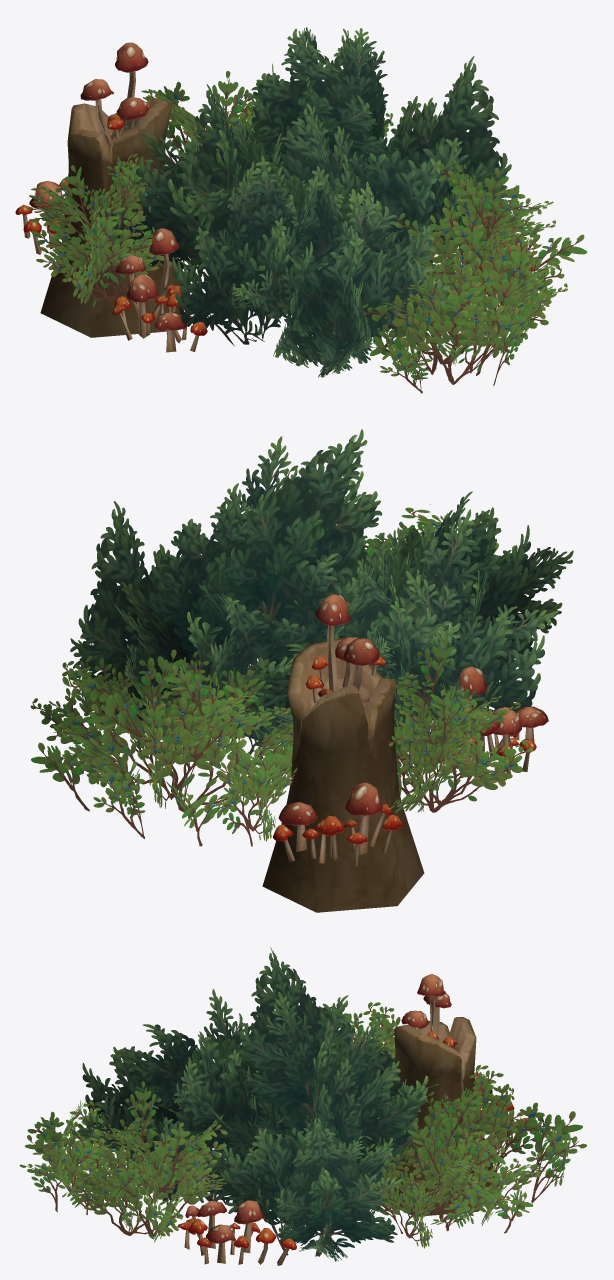
3 renders of one model, top to bottom at view 1: azimuth 30°, elevation 25°; view 2: azimuth 150°, elevation 25°; view 3: azimuth 270°, elevation 25°, orthographic. The views are drawn at different scales.
Size of the model in its own units: 9.61 by 6.75 by 12.67.
4 materials, 4 textured.
